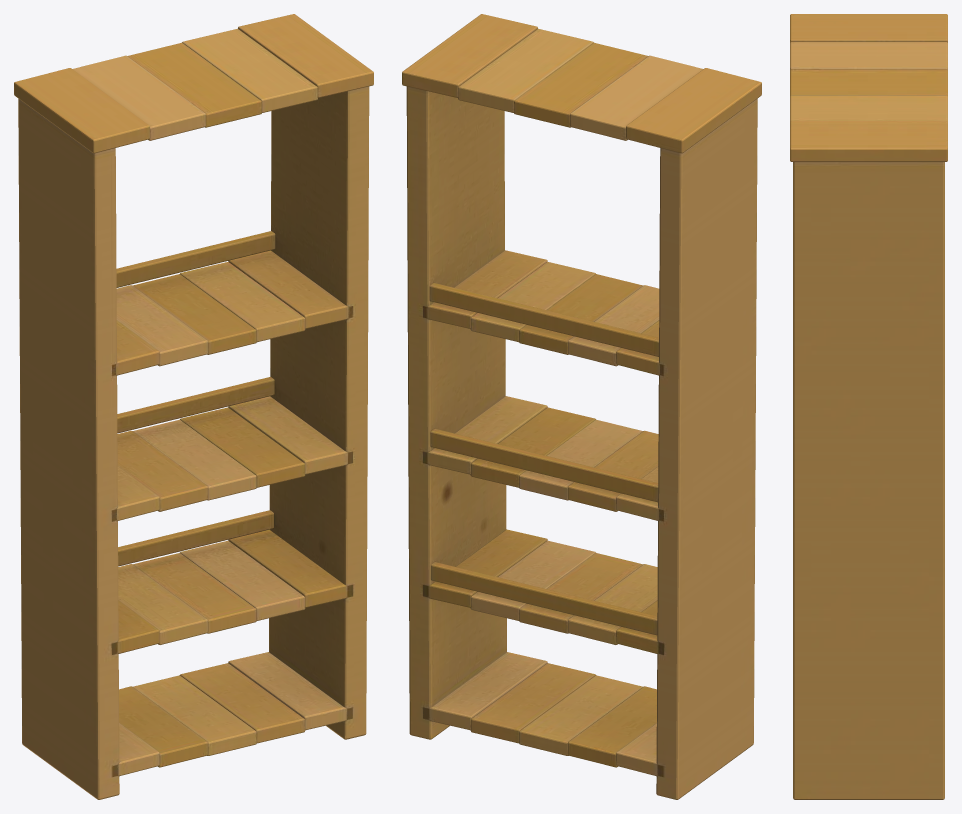
File: shelfwall-bay-b.glb
3 views of the same model, side by side, from view 1: azimuth 30°, elevation 25°; view 2: azimuth 150°, elevation 25°; view 3: azimuth 270°, elevation 25° (orthographic).
Visible parts, largest first — view 1: case-baked; view 2: case-baked; view 3: case-baked.
Boxes of the visible parts, x1=… form: case-baked: x1=14, y1=14, x2=373, y2=799; case-baked: x1=402, y1=14, x2=761, y2=799; case-baked: x1=790, y1=14, x2=947, y2=799.
Size of the model in its own units: 0.9495 by 2.14 by 0.4679.
Materials: 1 (1 with a texture image).
